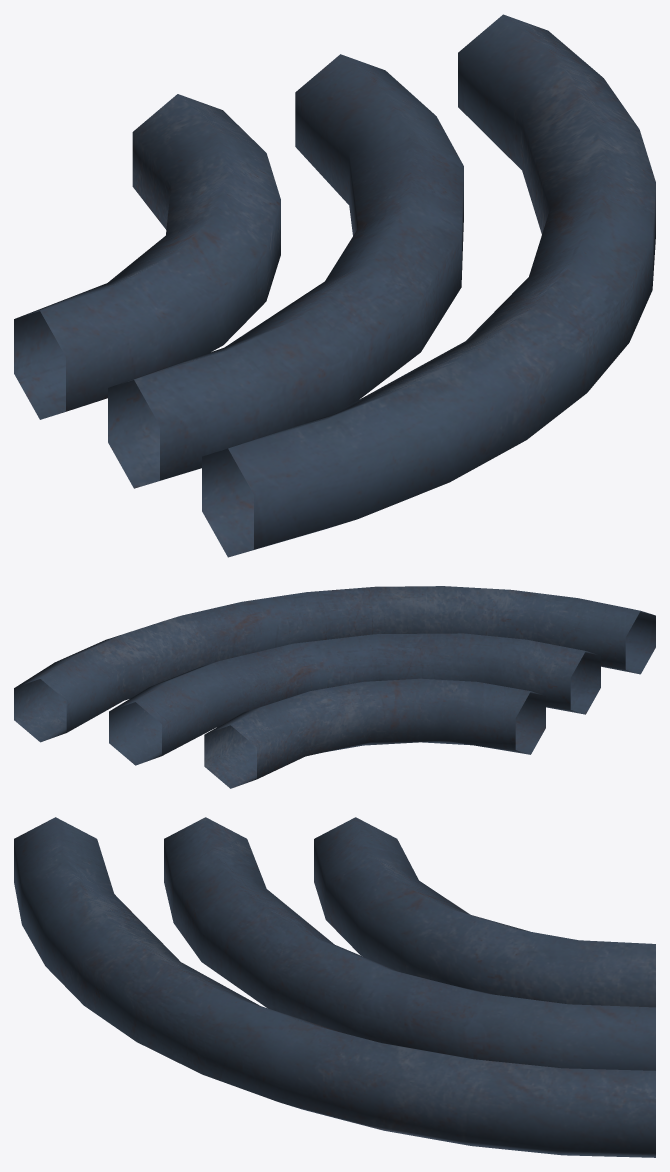
File: Pipe3_Courner1_L1.fbx
The picture shows the model from 3 angles, top to bottom: view 1: azimuth 30°, elevation 25°; view 2: azimuth 150°, elevation 25°; view 3: azimuth 270°, elevation 25°; orthographic projection. The views are drawn at different scales.
Visible parts, largest first — view 1: PIpe3_Courner1_L1; view 2: PIpe3_Courner1_L1; view 3: PIpe3_Courner1_L1.
Boxes of the visible parts, x1,y1,x2,y2 form: PIpe3_Courner1_L1: [14, 14, 655, 557]; PIpe3_Courner1_L1: [14, 586, 655, 788]; PIpe3_Courner1_L1: [14, 817, 655, 1157].
Bounding box in the file's own units: 71.28 × 10.66 × 71.28.
